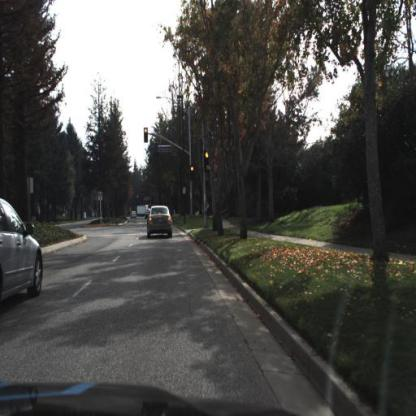car: (1, 194, 48, 307), (147, 204, 175, 240)
trafficLight-Red: (204, 146, 212, 173), (143, 126, 153, 147), (190, 164, 196, 181)
truck: (133, 204, 153, 217)
